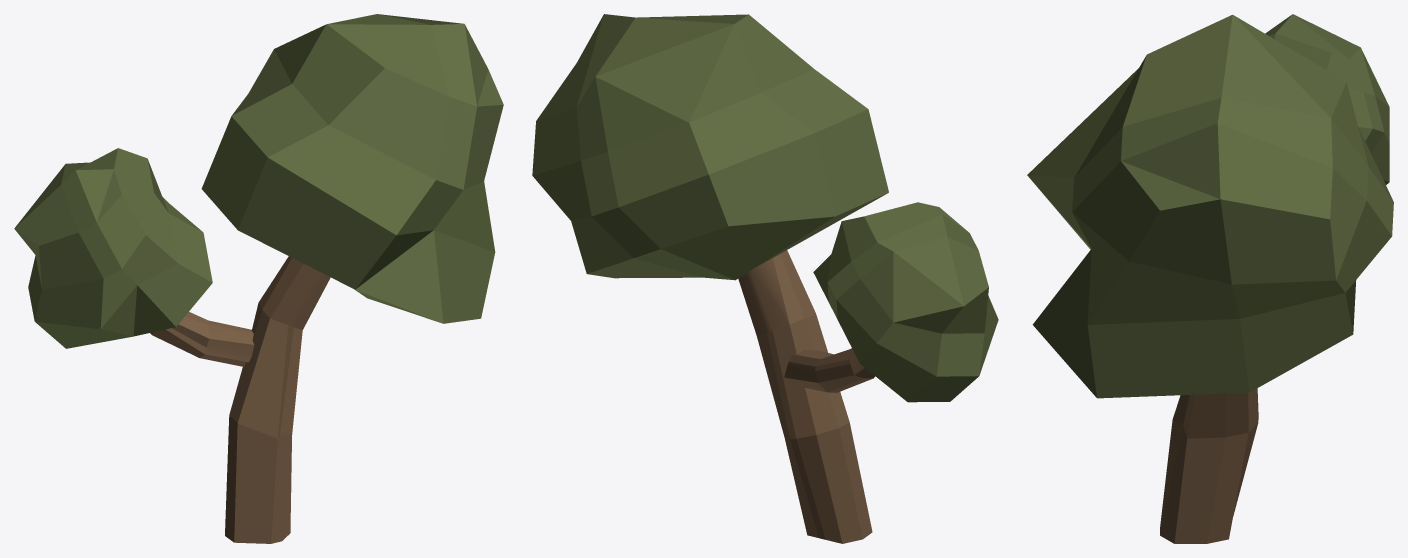
File: tree2.fbx
3 views of the same model, side by side, from view 1: azimuth 30°, elevation 25°; view 2: azimuth 150°, elevation 25°; view 3: azimuth 270°, elevation 25° (orthographic). The views are drawn at different scales.
Visible parts, largest first — view 1: tree2; view 2: tree2; view 3: tree2.
Part boxes in pixels (box(x1,y1,x2,y2)): tree2: box(14, 14, 503, 543); tree2: box(532, 14, 998, 543); tree2: box(1027, 14, 1393, 543).
Bounding box in the file's own units: 790 × 849 × 500.
